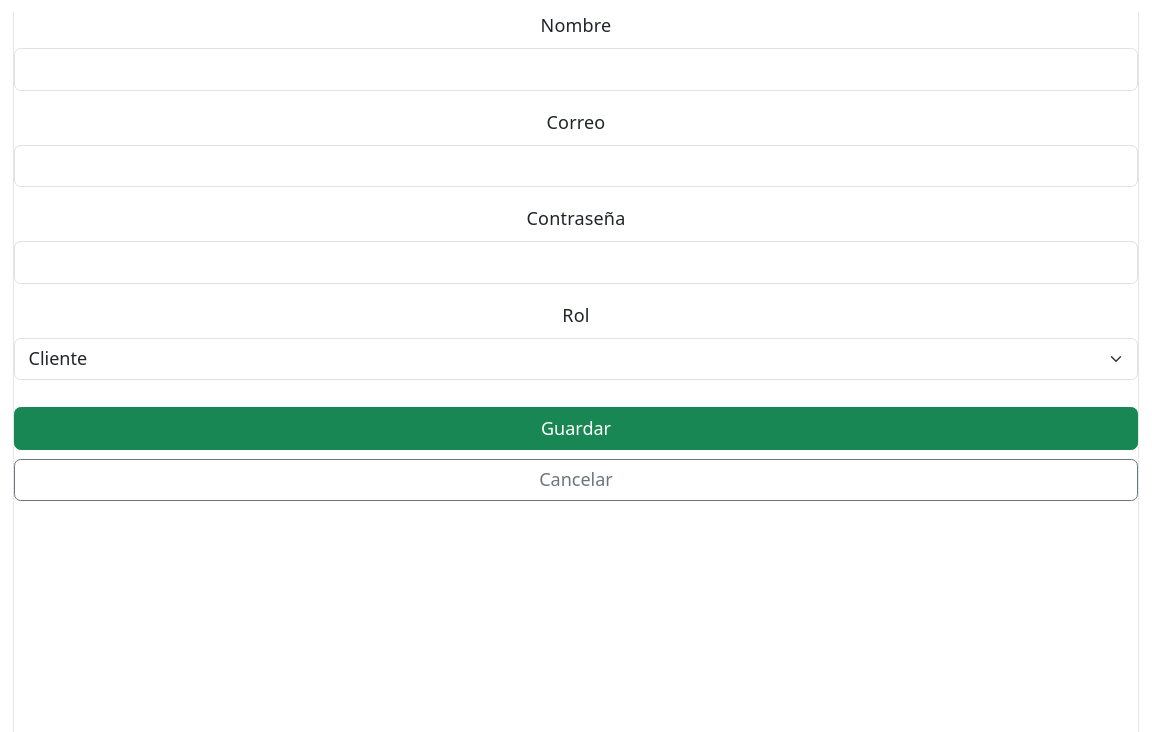
FormularioUsuario › muestra errores y no guarda si los campos están vacíos
Step 1. Click the button "Guardar" → (576, 428), box [14,407,1138,450]
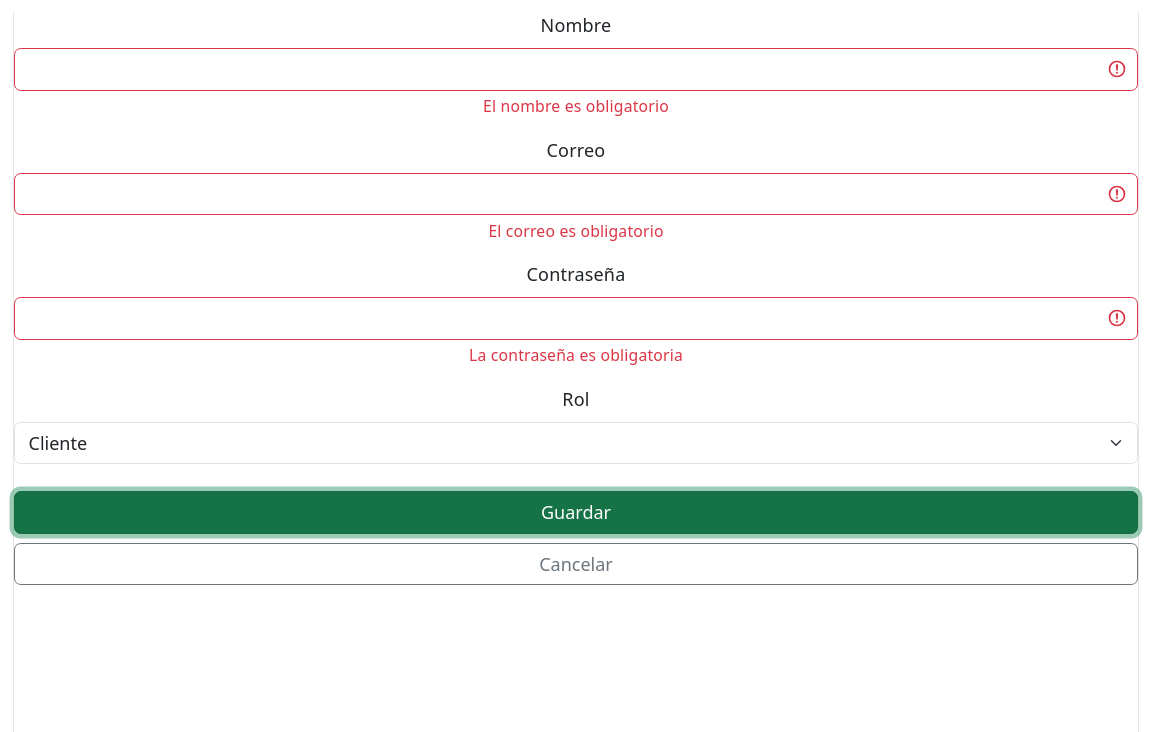
Check: the text "El nombre es obligatorio" is shown, box [483,95,669,117]
Check: the text "El correo es obligatorio" is shown, box [488,220,664,242]
Check: the text "La contraseña es obligatoria" is shown, box [469,344,683,366]
